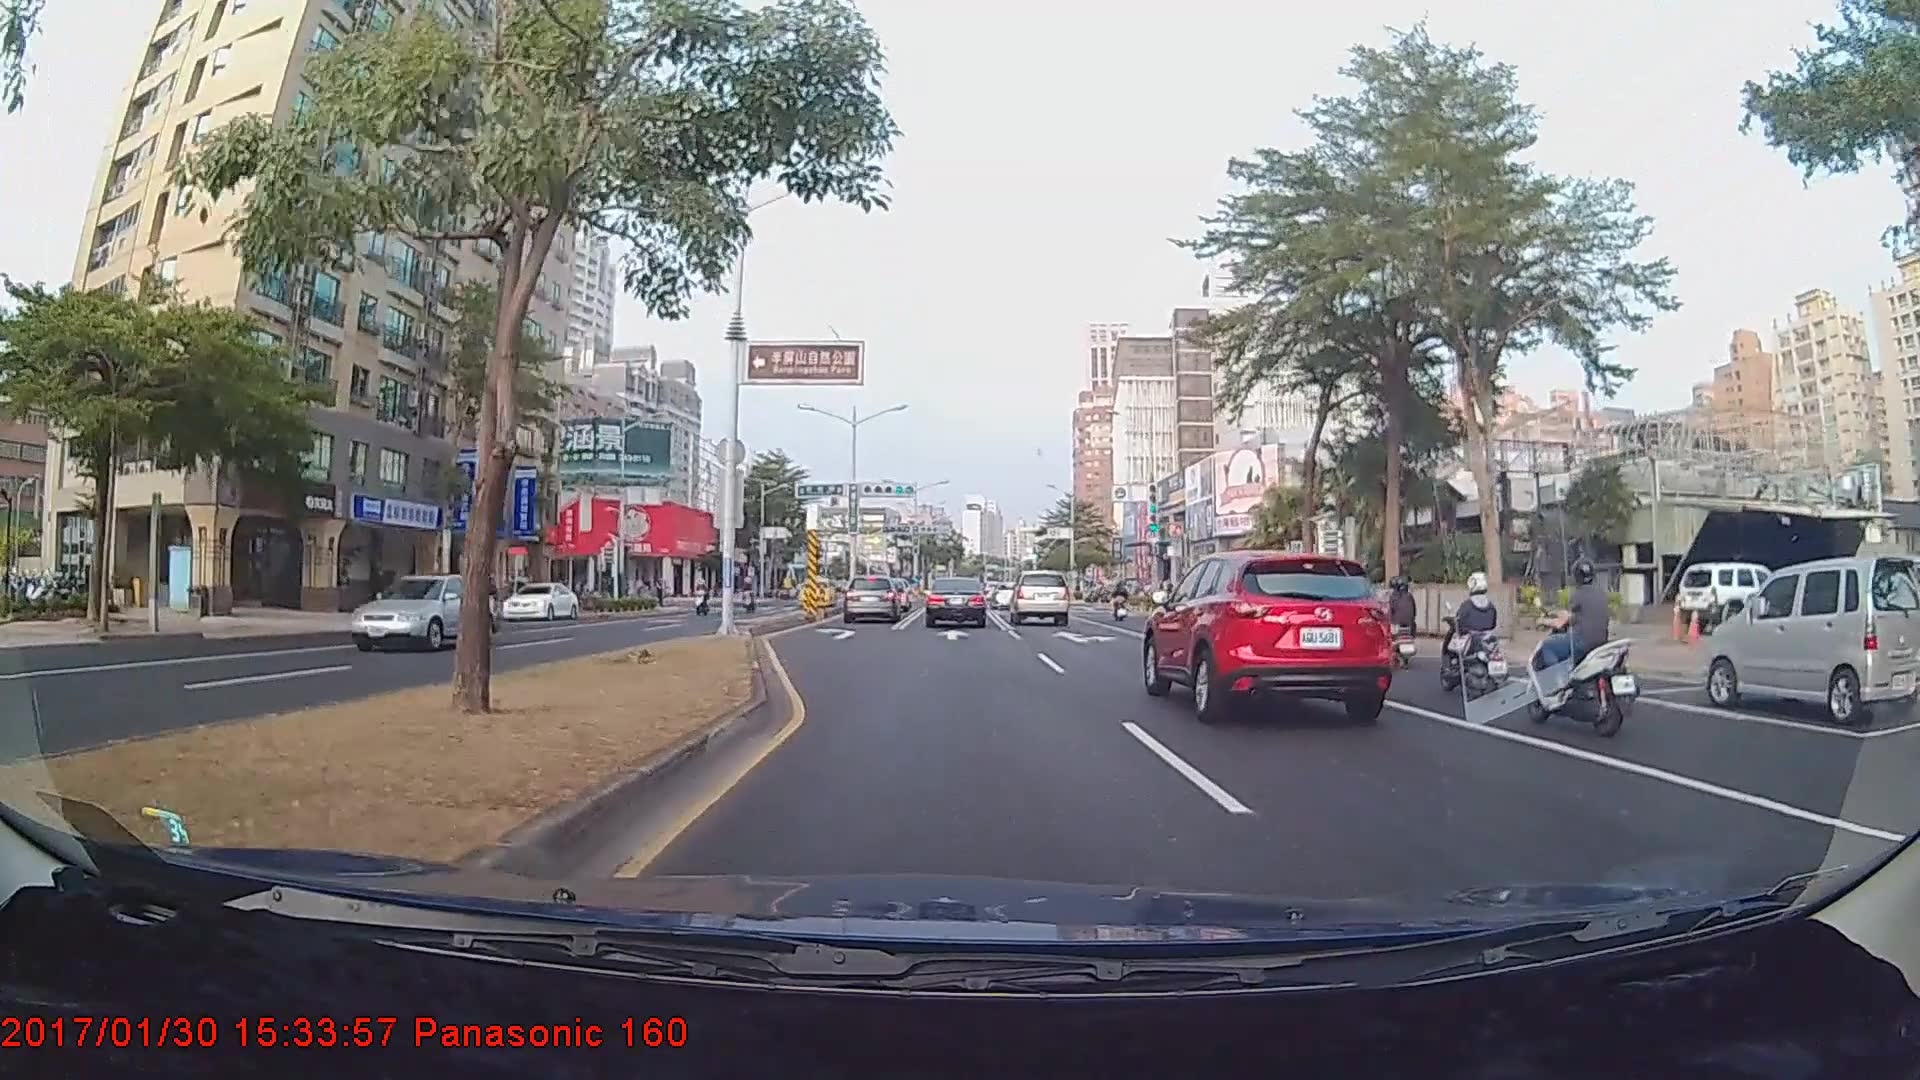rider: (1521, 553, 1641, 738), (1431, 572, 1528, 714), (1369, 576, 1421, 679), (1108, 583, 1135, 626)
vehicle: (1147, 544, 1392, 719), (1690, 557, 1919, 722), (348, 572, 492, 652), (1674, 559, 1770, 628), (1006, 569, 1071, 625), (841, 572, 908, 623), (925, 575, 987, 629), (503, 582, 579, 622)
